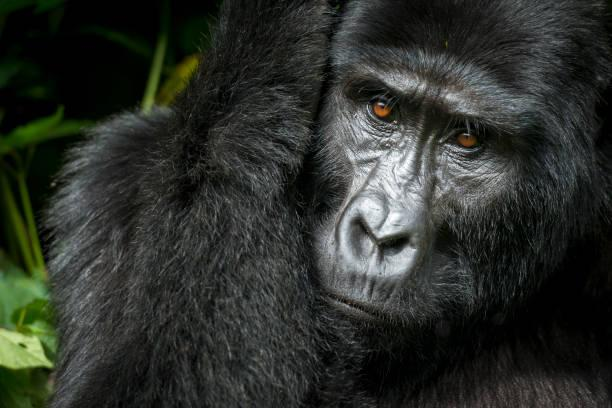goriile_montagne: (58, 0, 612, 403)
